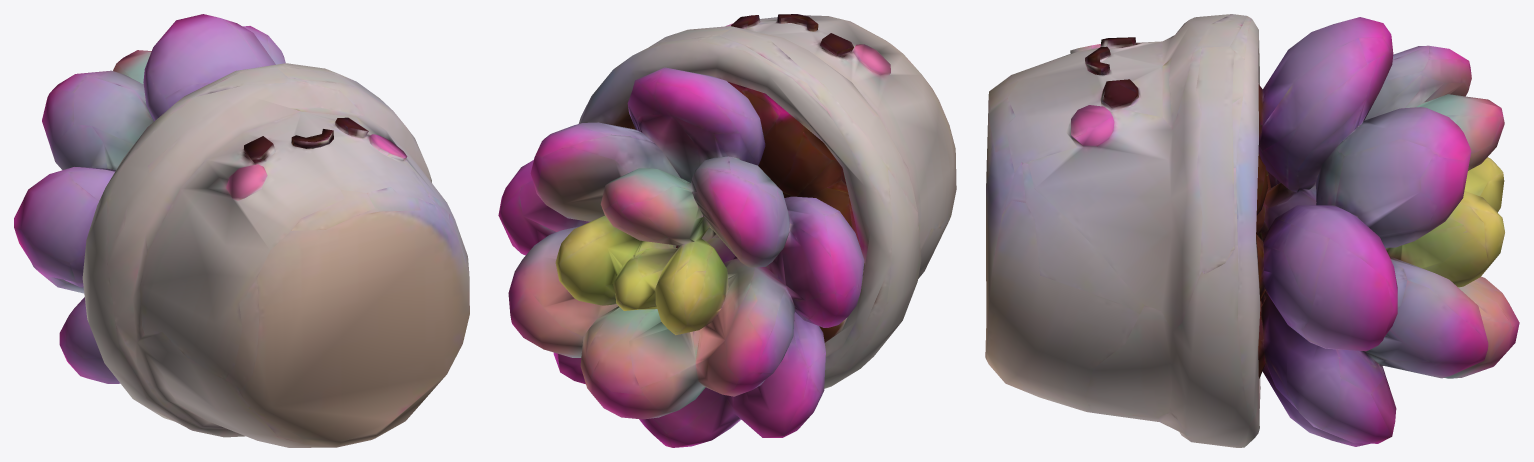
3 renders of one model, left to right at view 1: azimuth 30°, elevation 25°; view 2: azimuth 150°, elevation 25°; view 3: azimuth 270°, elevation 25°, orthographic. The views are drawn at different scales.
Parts seen in each view (by area): view 1: material; view 2: material; view 3: material.
Part boxes in pixels (x1,y1,x2,y2): material: (14, 14, 469, 447); material: (498, 14, 956, 447); material: (985, 14, 1519, 447).
Size of the model in its own units: 0.8429 by 0.8512 by 1.
1 material, 1 textured.
